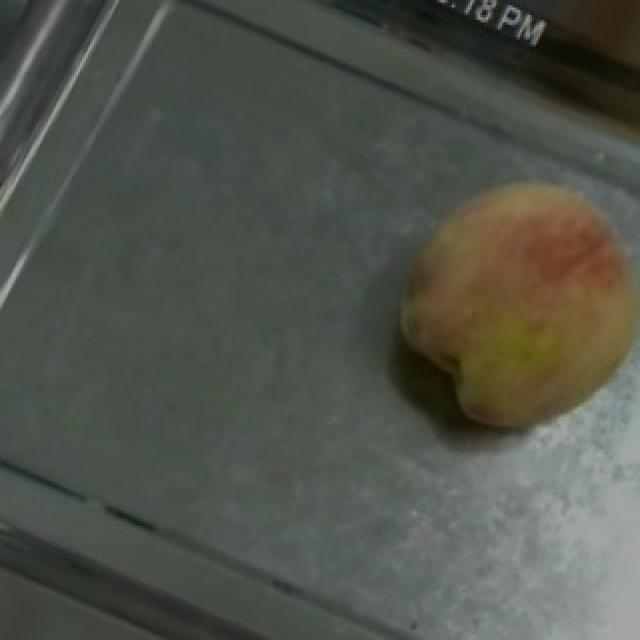Fruit: (354, 134, 640, 466)
